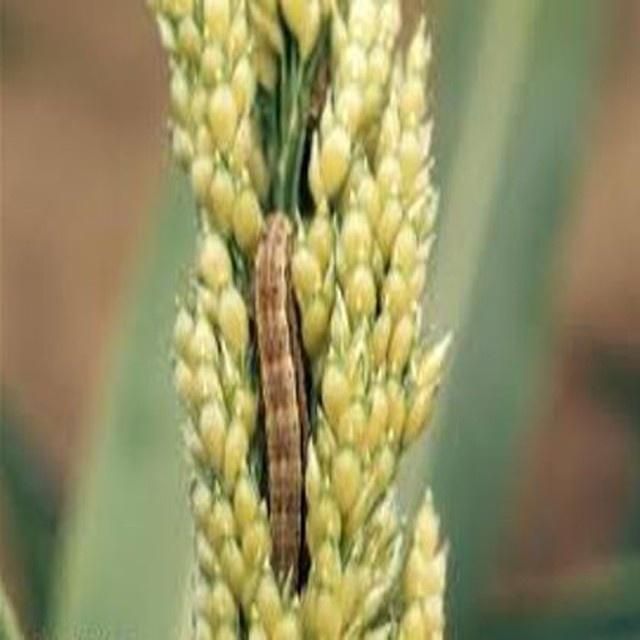gusano_cogollero: (246, 222, 308, 582)
